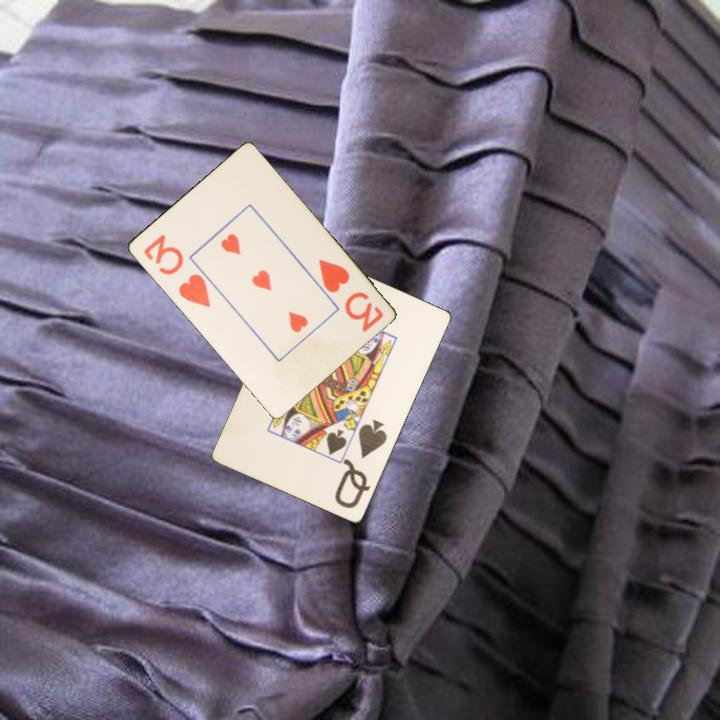3h: (139, 230, 213, 311), (314, 255, 386, 335)
Qs: (331, 416, 390, 512)
